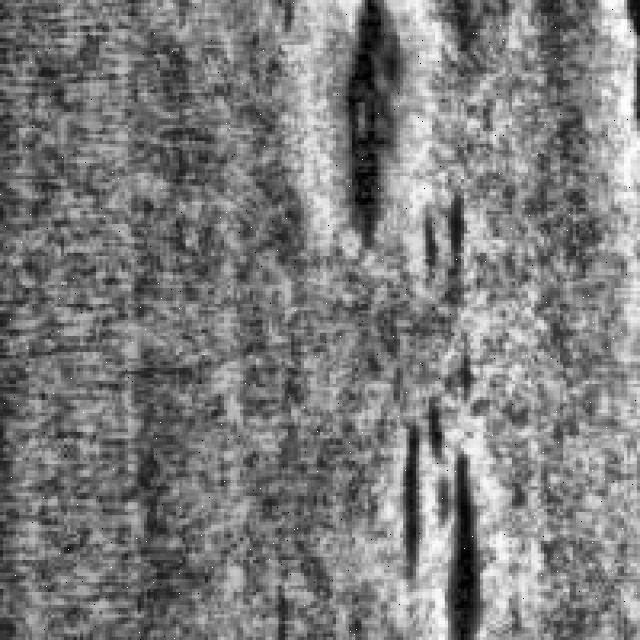Patches: (400, 175, 499, 630), (336, 0, 413, 246)
